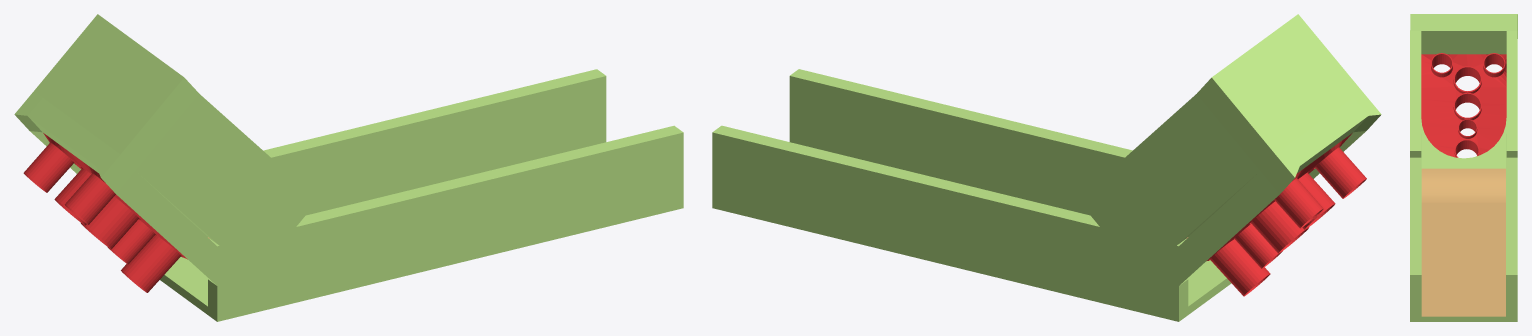
Rendered from Skee_Ball_Machine_01.fbx.
3 renders of one model, left to right at view 1: azimuth 30°, elevation 25°; view 2: azimuth 150°, elevation 25°; view 3: azimuth 270°, elevation 25°, orthographic. The views are drawn at different scales.
Visible parts, largest first — view 1: Base; view 2: Base; view 3: Base.
Boxes of the visible parts, x1=… form: Base: x1=14, y1=14, x2=683, y2=321; Base: x1=712, y1=14, x2=1381, y2=321; Base: x1=1410, y1=14, x2=1517, y2=321.
Size of the model in its own units: 5510 by 2252 by 1402.
